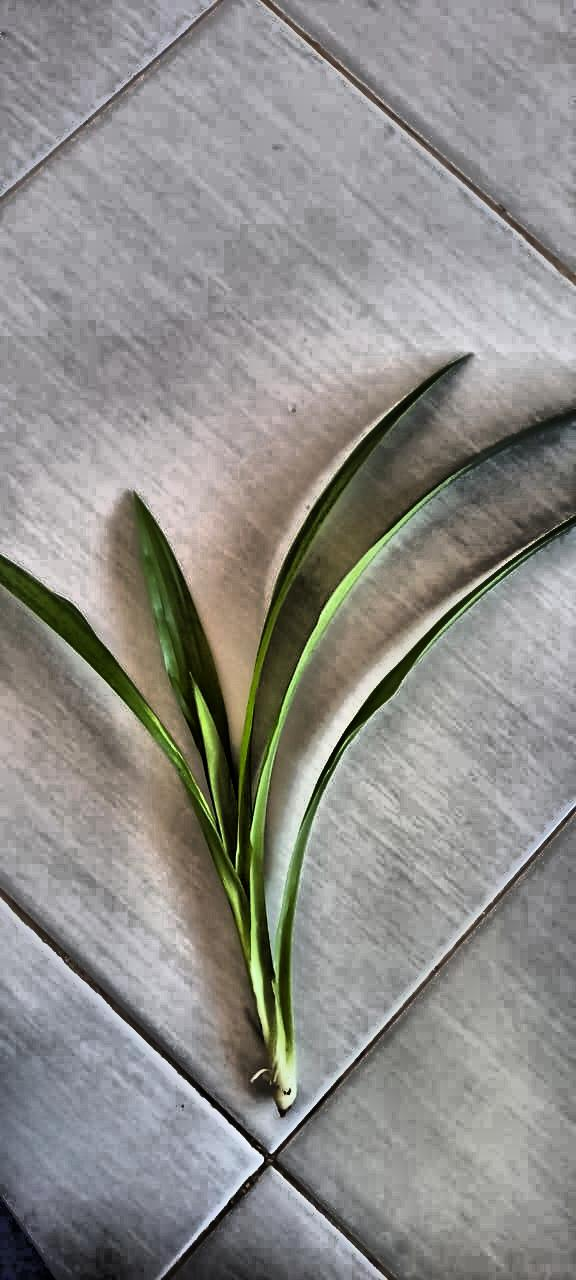daun pandan: (0, 361, 575, 1114)
